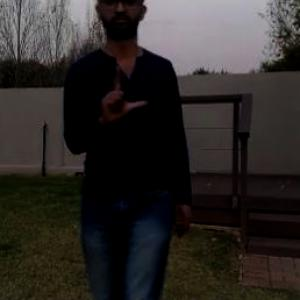land_hand: (94, 62, 151, 128)
